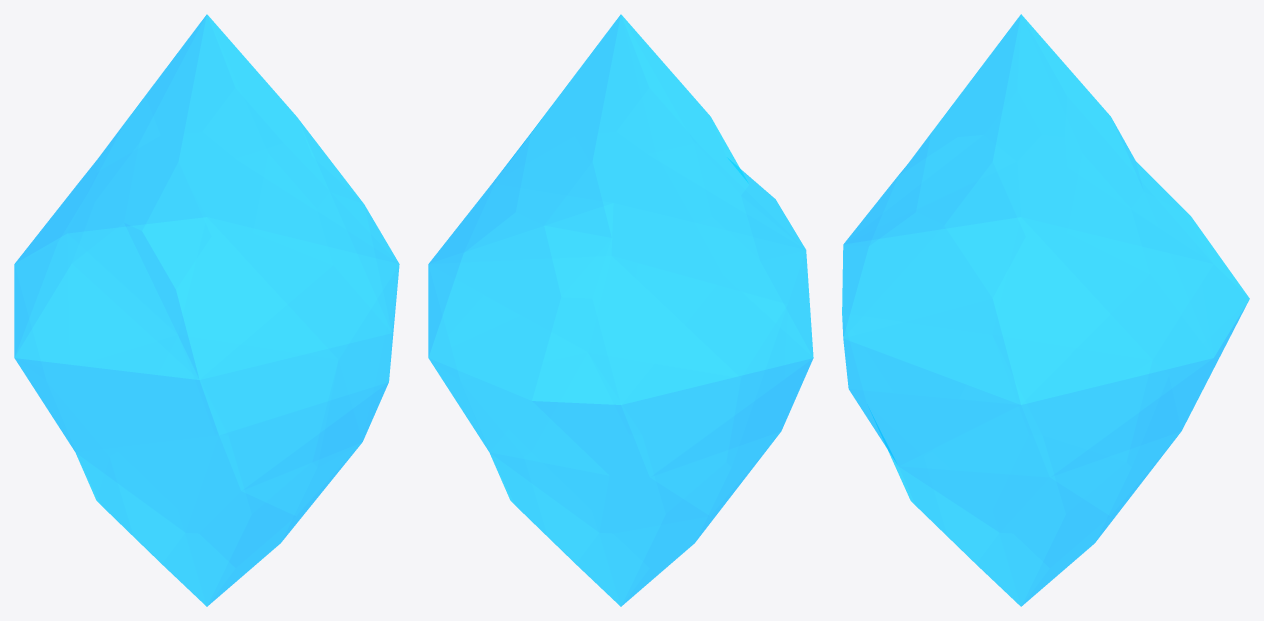
The model's file is gem.glb.
The picture shows the model from 3 angles, left to right: view 1: azimuth 30°, elevation 25°; view 2: azimuth 150°, elevation 25°; view 3: azimuth 270°, elevation 25°; orthographic projection.
Size of the model in its own units: 3.31 by 4.88 by 3.04.
